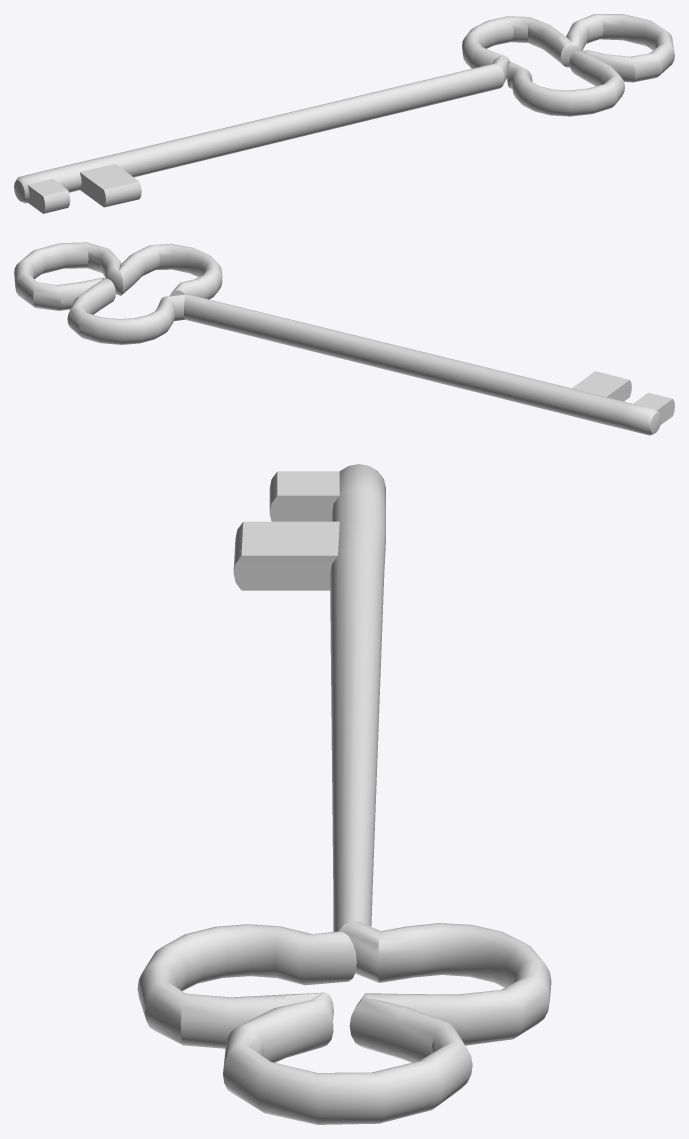
Rendered from MasterKey.fbx.
The picture shows the model from 3 angles, top to bottom: view 1: azimuth 30°, elevation 25°; view 2: azimuth 150°, elevation 25°; view 3: azimuth 270°, elevation 25°; orthographic projection. The views are drawn at different scales.
Visible parts, largest first — view 1: pCylinder9; view 2: pCylinder9; view 3: pCylinder9.
Part boxes in pixels (x1,y1,x2,y2): pCylinder9: (14,14,674,213); pCylinder9: (14,242,674,435); pCylinder9: (137,464,551,1124).
Bounding box in the file's own units: 402 × 14.8 × 113.
